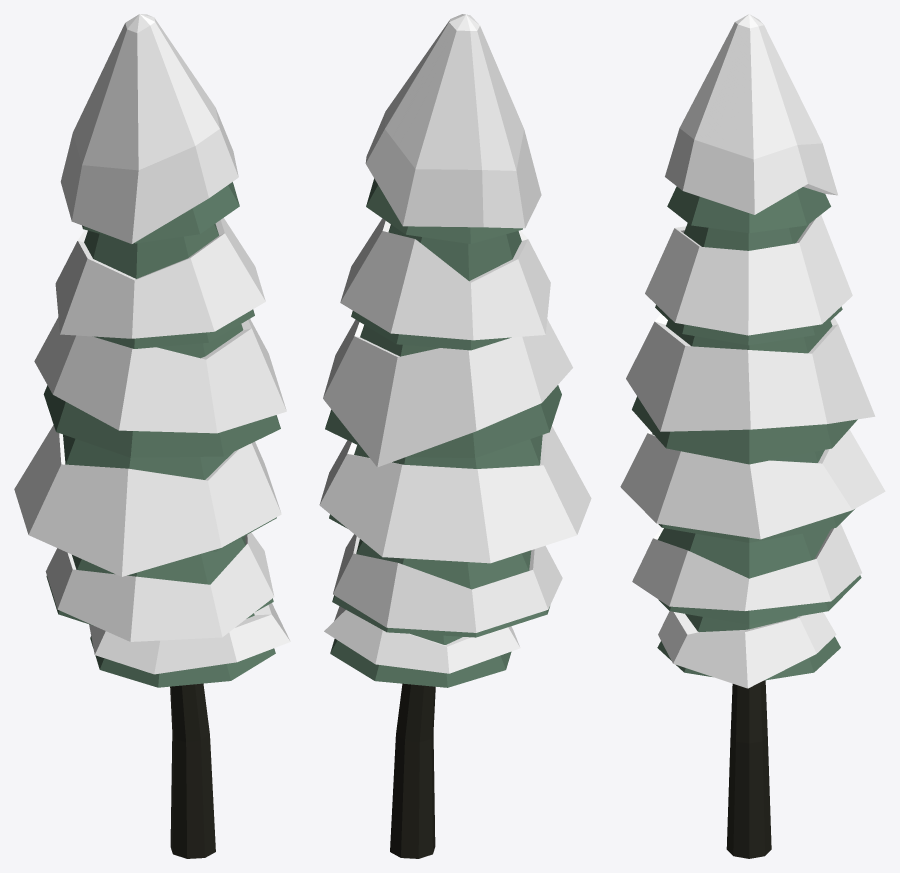
Rendered from Snowtree1.fbx.
3 views of the same model, side by side, from view 1: azimuth 30°, elevation 25°; view 2: azimuth 150°, elevation 25°; view 3: azimuth 270°, elevation 25° (orthographic). The views are drawn at different scales.
Visible parts, largest first — view 1: Snowtree1; view 2: Snowtree1; view 3: Snowtree1.
Part boxes in pixels (x1,y1,x2,y2): Snowtree1: (14, 14, 290, 858); Snowtree1: (319, 14, 591, 858); Snowtree1: (620, 14, 885, 858).
Size of the model in its own units: 60.81 by 202 by 59.82.
